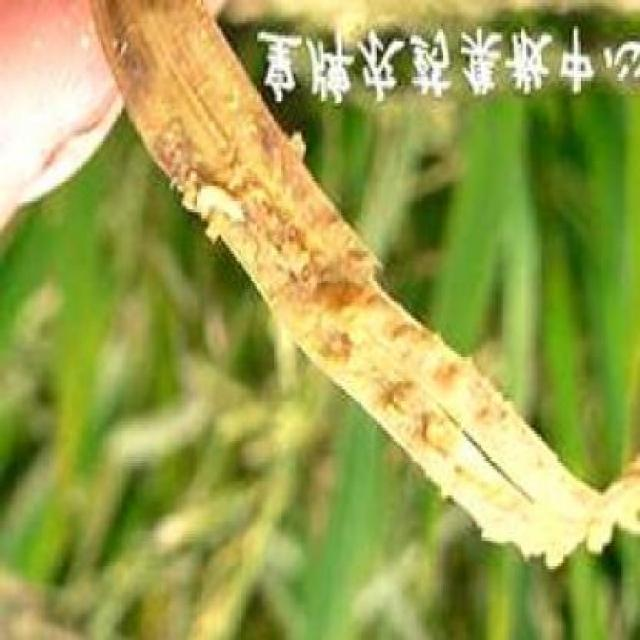whorl-maggot: (189, 169, 249, 237)
